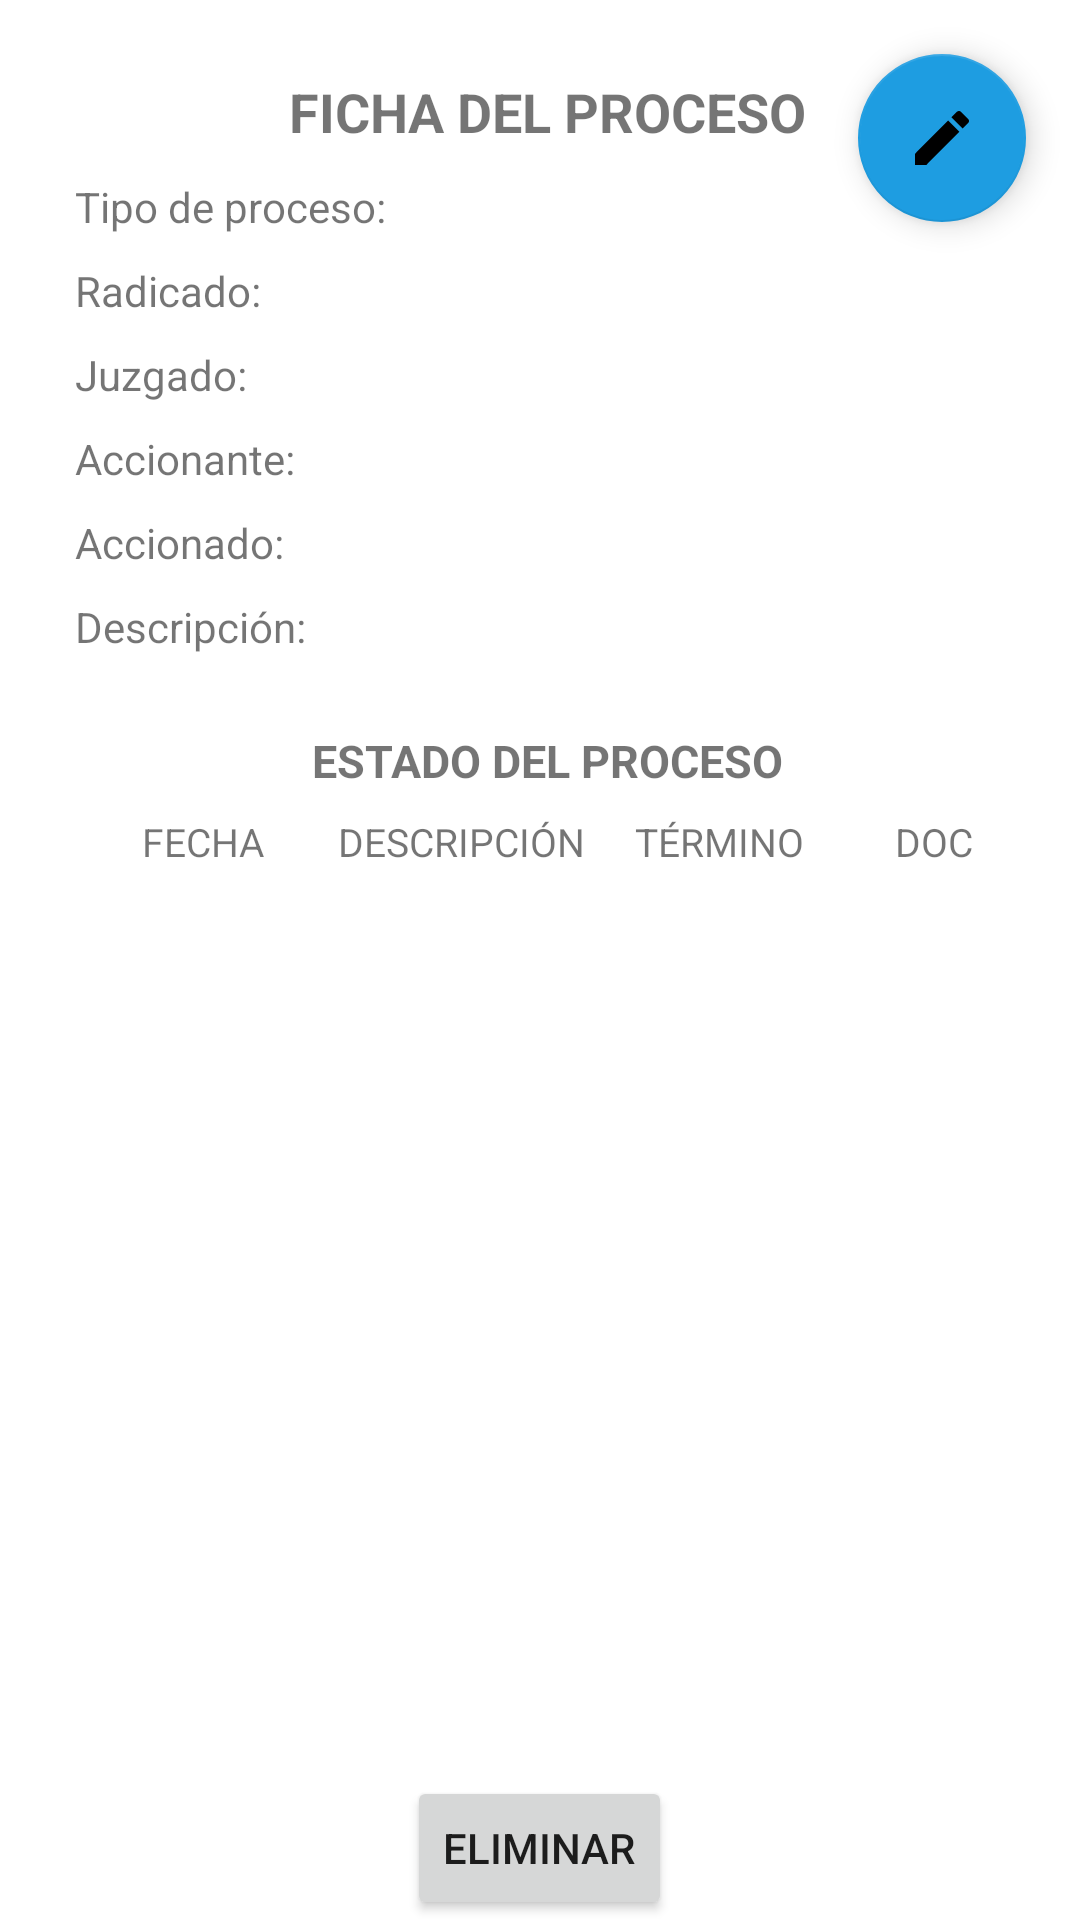

Locate icon controls on the screen. Image size 1080px×1920px, boxes as (x1, y1, x2, y2).
edit: (858, 54, 1026, 222)
